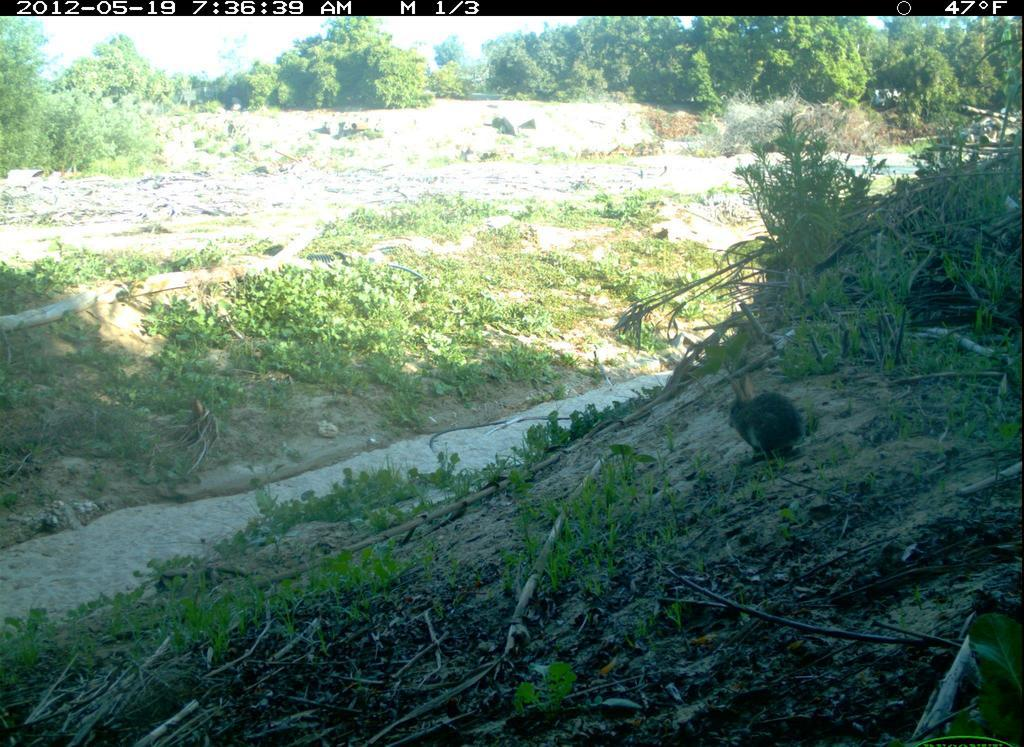rabbit: (696, 351, 822, 478)
